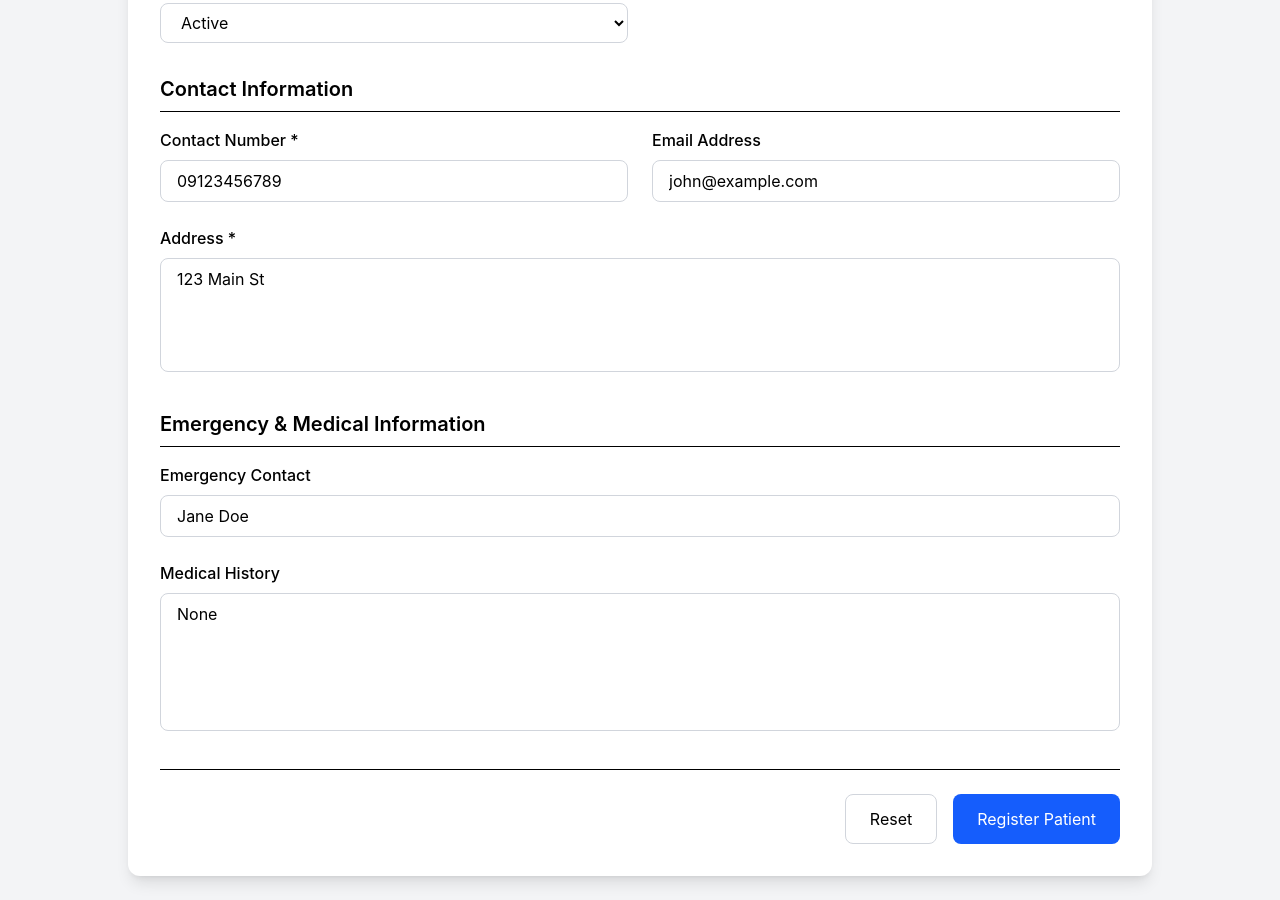
PatientRegistrationForm › shows validation errors and halts submission when form is invalid
(page scrolled)
Click the button "Register Patient" at (1037, 819), box x1=953 y1=794 x2=1120 y2=844
(page scrolled)
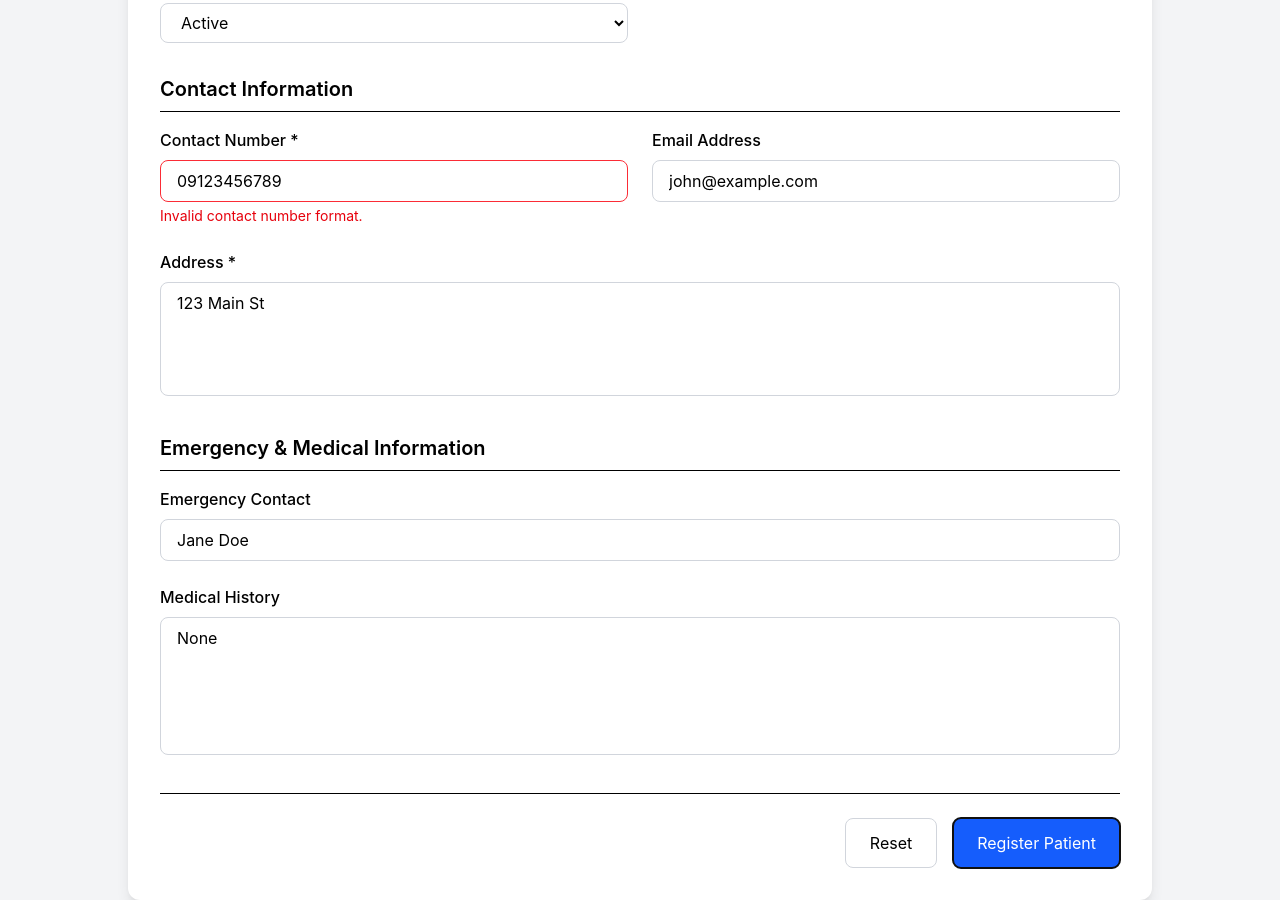
Result: the text "Invalid contact number format." is shown at x1=160 y1=207 x2=363 y2=224
